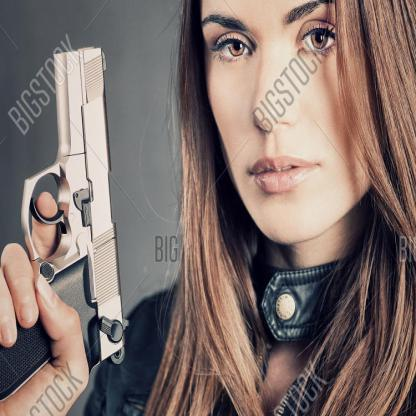gun: (0, 45, 132, 415)
